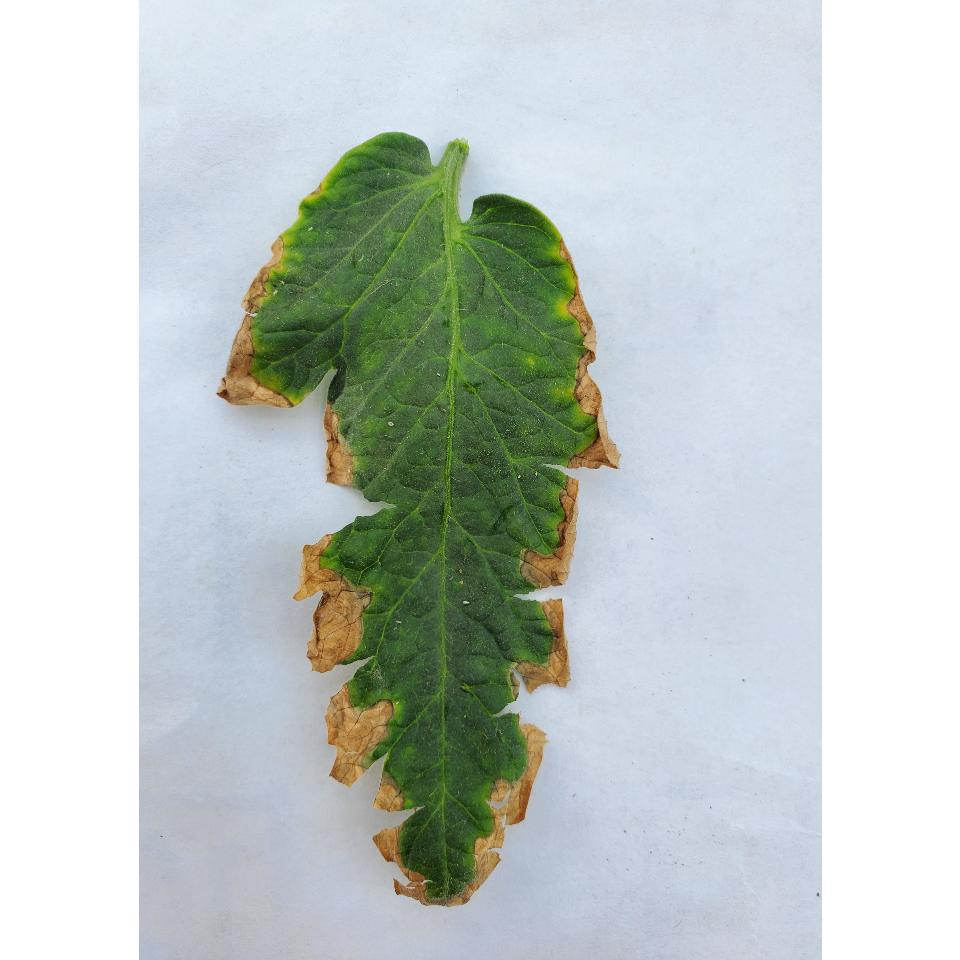tomato_bacterial_blight: (216, 103, 624, 916)
